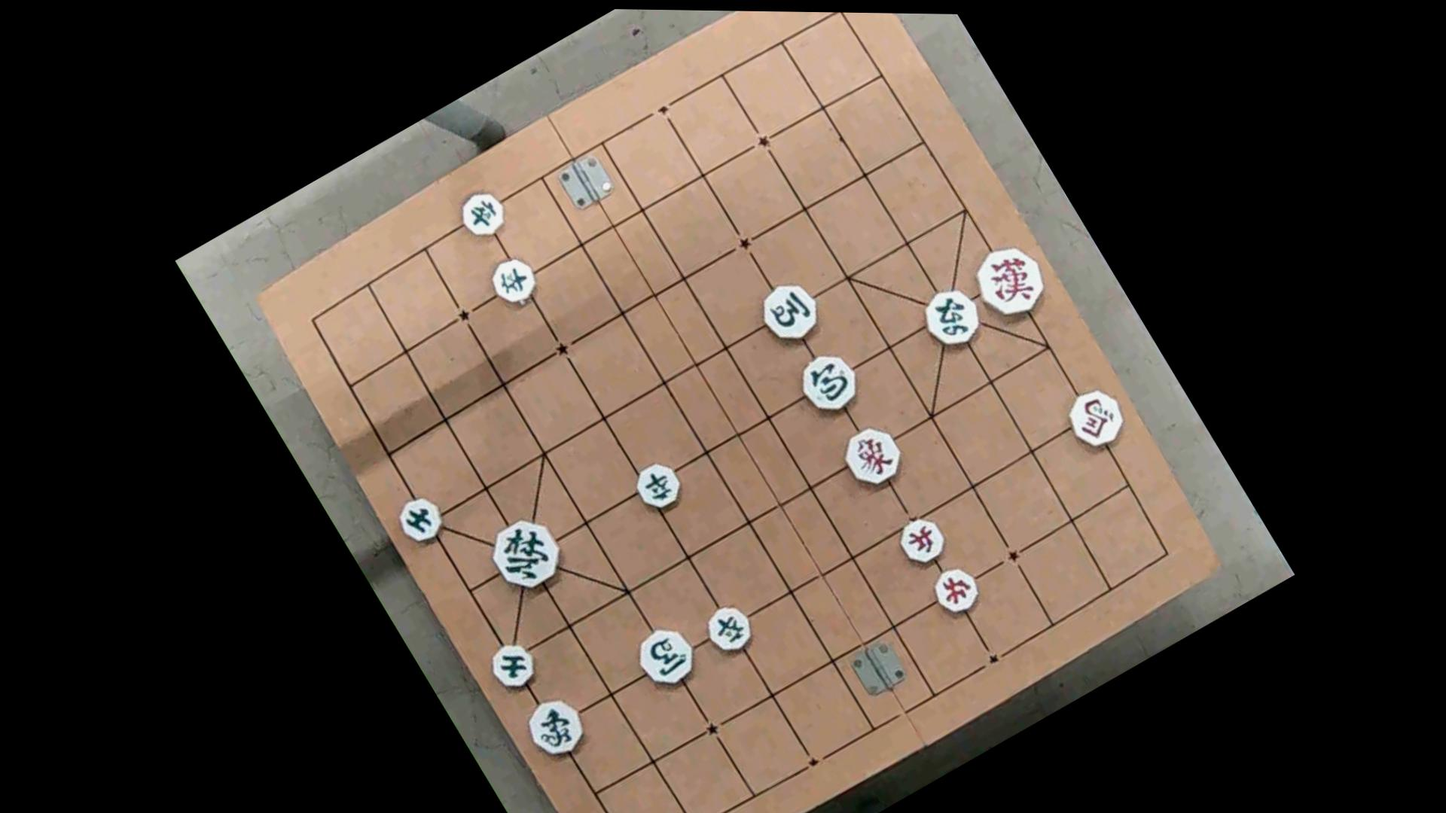cha_green: (919, 283, 987, 350)
jol_green: (627, 457, 686, 516), (485, 251, 543, 309), (454, 185, 511, 242), (703, 601, 758, 657)
jol_red: (892, 510, 950, 569), (927, 561, 986, 619)
ma_green: (754, 273, 828, 349), (629, 618, 702, 692)
ma_red: (1060, 384, 1130, 453)
po_green: (792, 343, 865, 419)
sa_green: (389, 490, 448, 549), (485, 636, 541, 696)
sang_green: (520, 690, 593, 766)
sang_red: (834, 419, 909, 493)
wang_green: (482, 509, 570, 598)
wang_red: (965, 234, 1054, 326)
